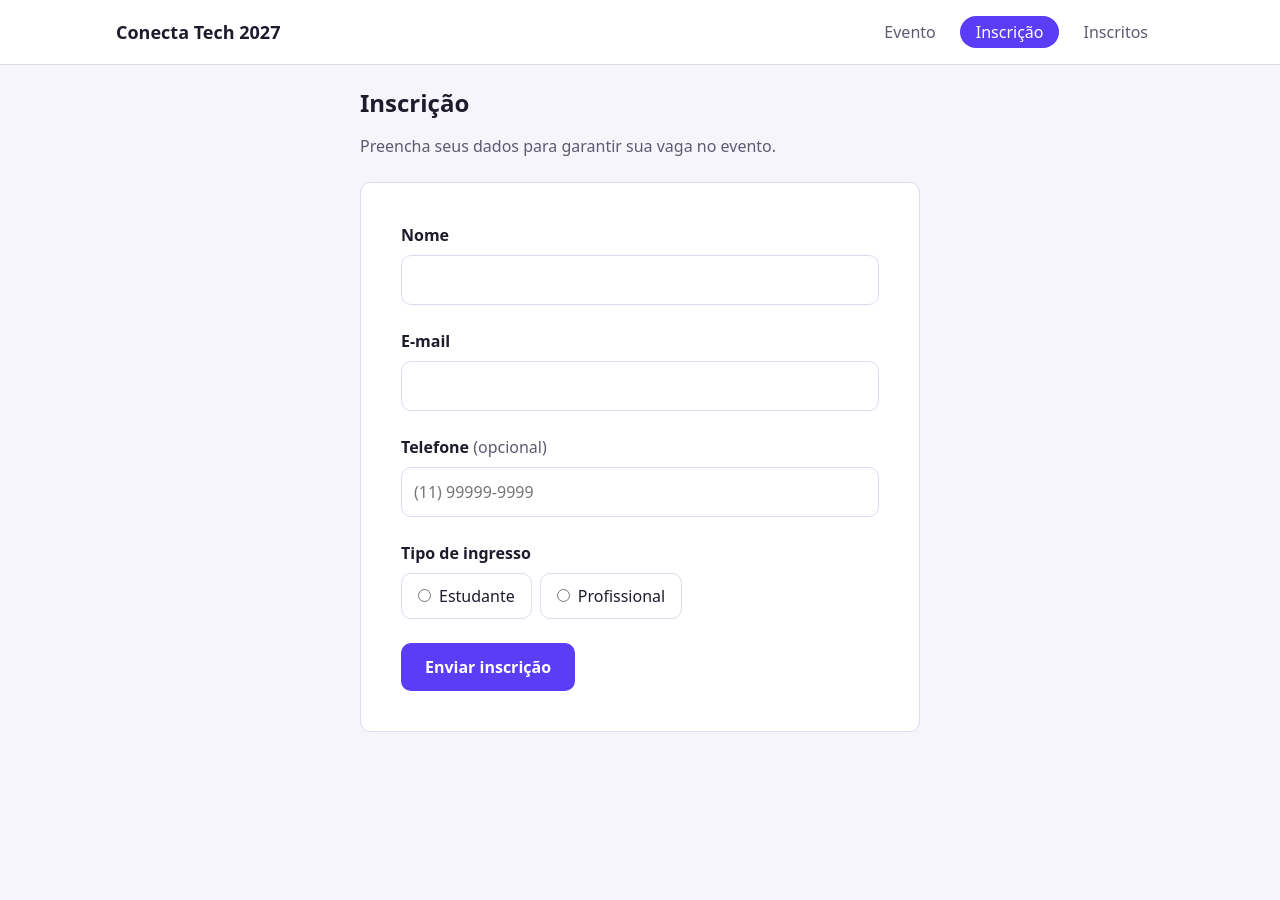
Test case: formulário de inscrição › REQ-FE-12: enviar o formulário vazio mostra as 3 mensagens de uma vez
Click the button "Enviar inscrição".
click(488, 667)  # box [401,643,575,691]
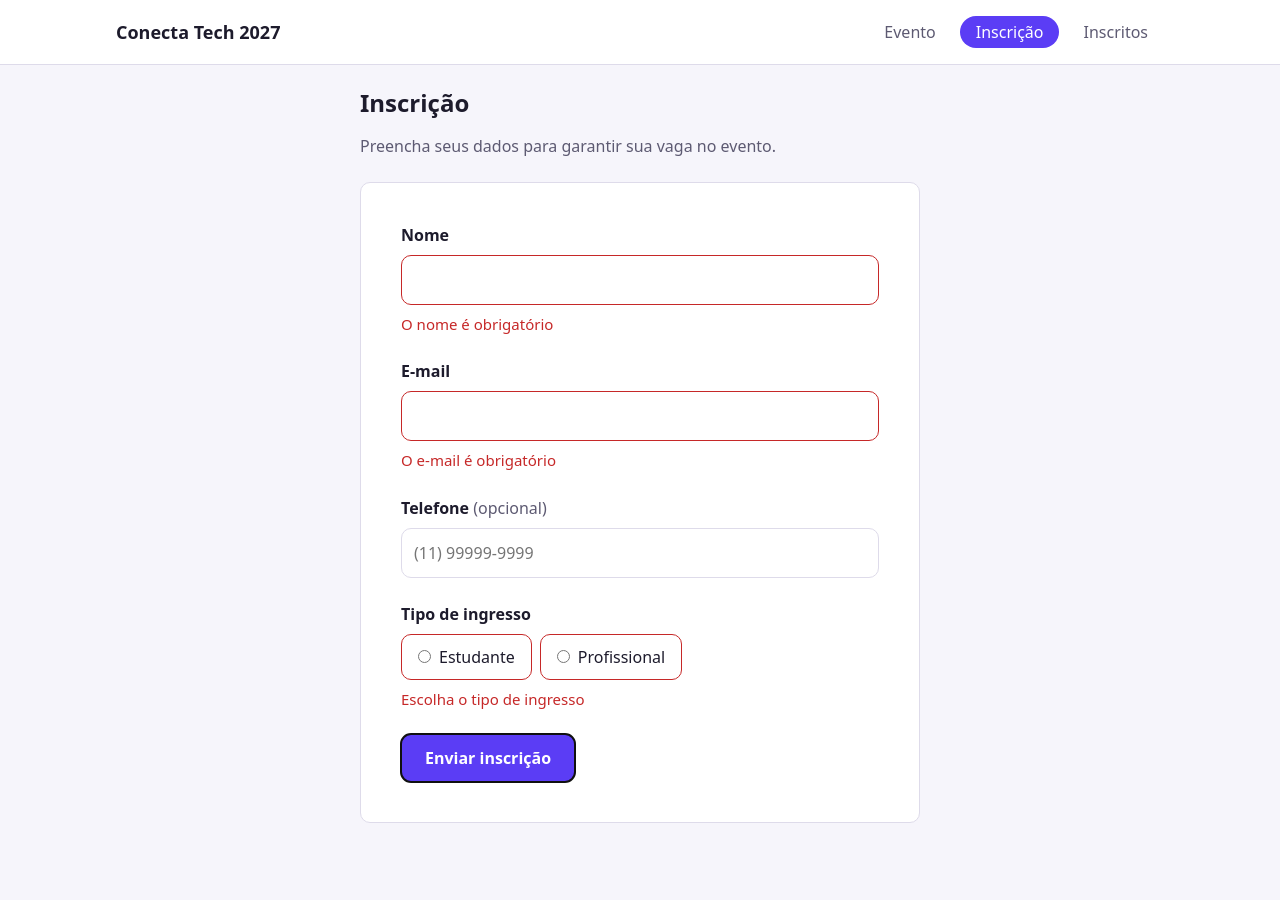
Expected: the text "O nome é obrigatório" is shown, [401,314,553,334]
Expected: the text "O e-mail é obrigatório" is shown, [401,450,556,470]
Expected: the text "Escolha o tipo de ingresso" is shown, [401,689,584,709]
